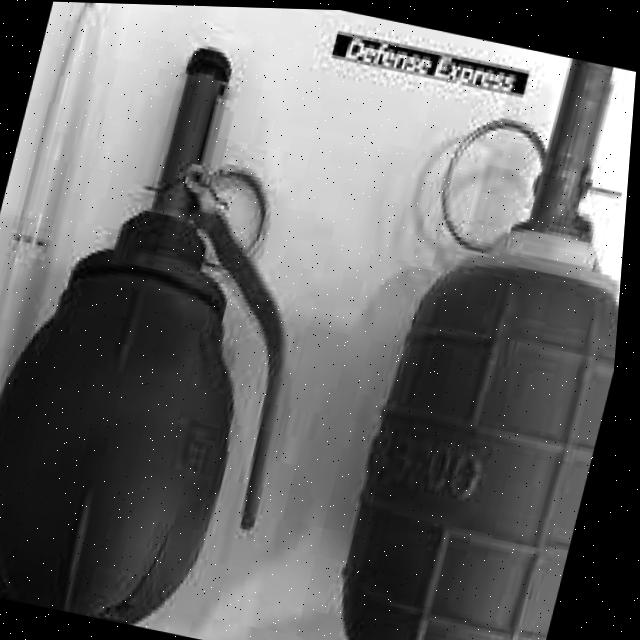grenade: (0, 0, 377, 640), (320, 29, 639, 640)
